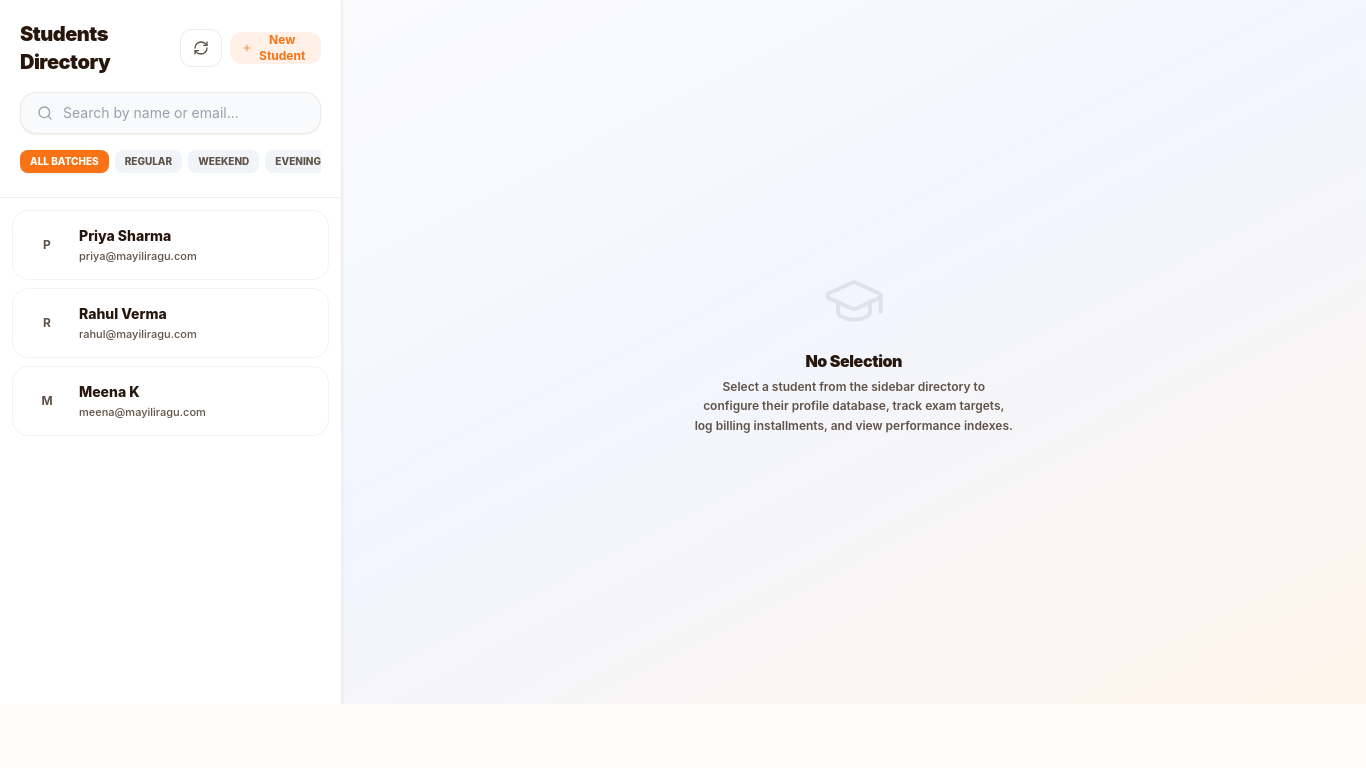
Test case: StudentManagementPage › filters students by batch type
The width and height of the screenshot is (1366, 768).
Expected: the text "Priya Sharma" is shown, x1=79 y1=227 x2=171 y2=244
Expected: the text "Rahul Verma" is shown, x1=79 y1=305 x2=167 y2=322
Filter by Weekend
Click the button "Weekend".
click(224, 162)  # box x1=188 y1=150 x2=259 y2=173
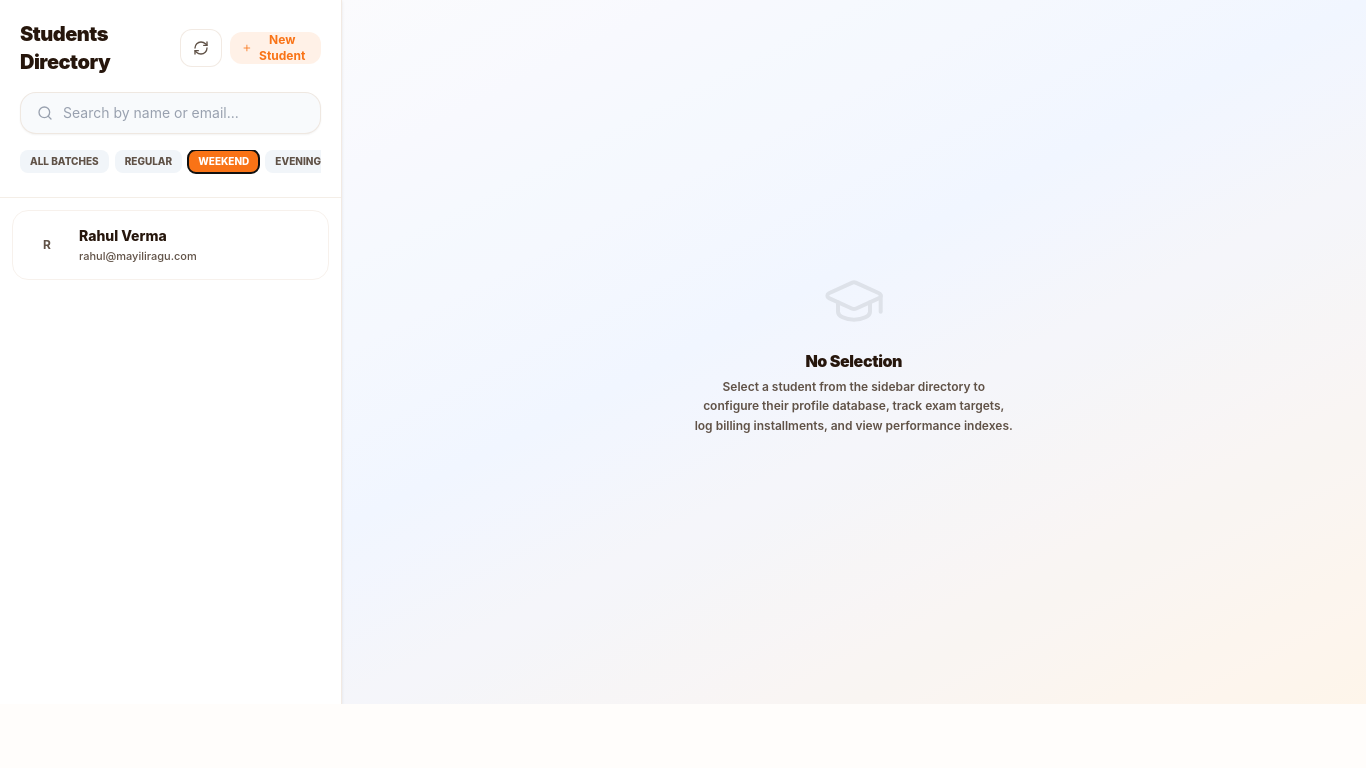
Expected: the text "Rahul Verma" is shown, x1=79 y1=227 x2=167 y2=244
Expected: the text "Priya Sharma" is gone
Expected: the text "Meena K" is gone
Filter by Evening
Click the button "Evening".
click(298, 162)  # box x1=265 y1=150 x2=331 y2=173
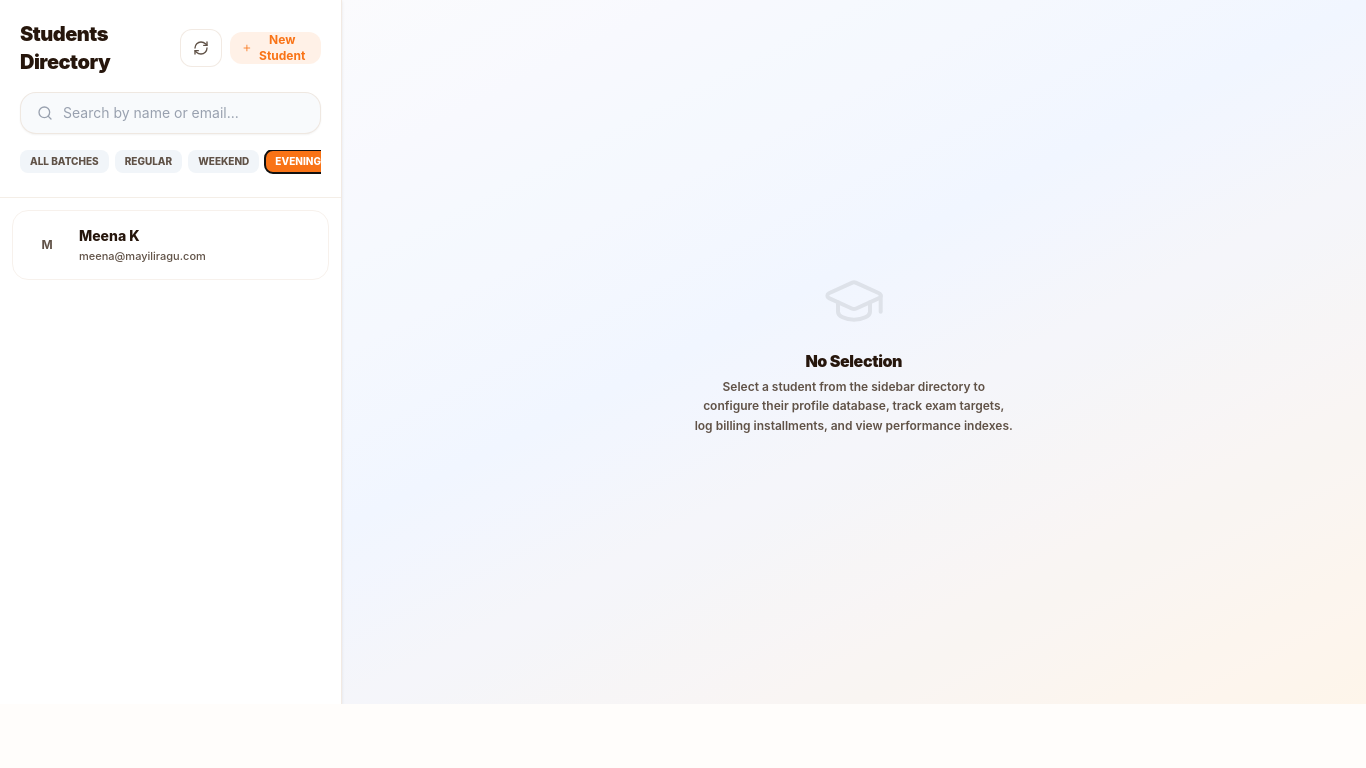
Expected: the text "Priya Sharma" is not shown
Expected: the text "Rahul Verma" is gone
Expected: the text "Meena K" is shown, x1=79 y1=227 x2=140 y2=244
Filter by Regular
Click the button "Regular".
click(148, 162)  # box x1=115 y1=150 x2=182 y2=173
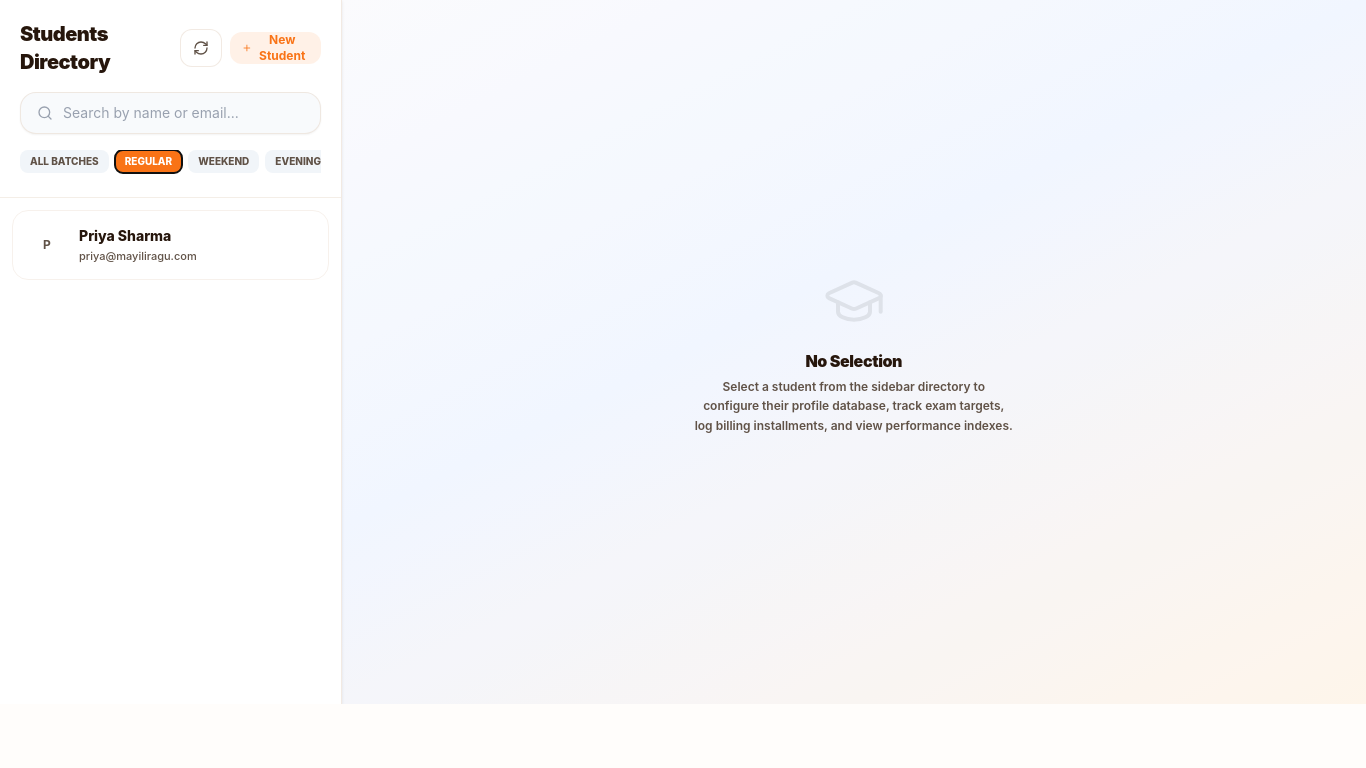
Expected: the text "Rahul Verma" is not shown
Expected: the text "Priya Sharma" is shown, x1=79 y1=227 x2=171 y2=244
Expected: the text "Meena K" is gone
Reset to All Batches
Click the button "All Batches".
click(64, 162)  # box x1=20 y1=150 x2=109 y2=173
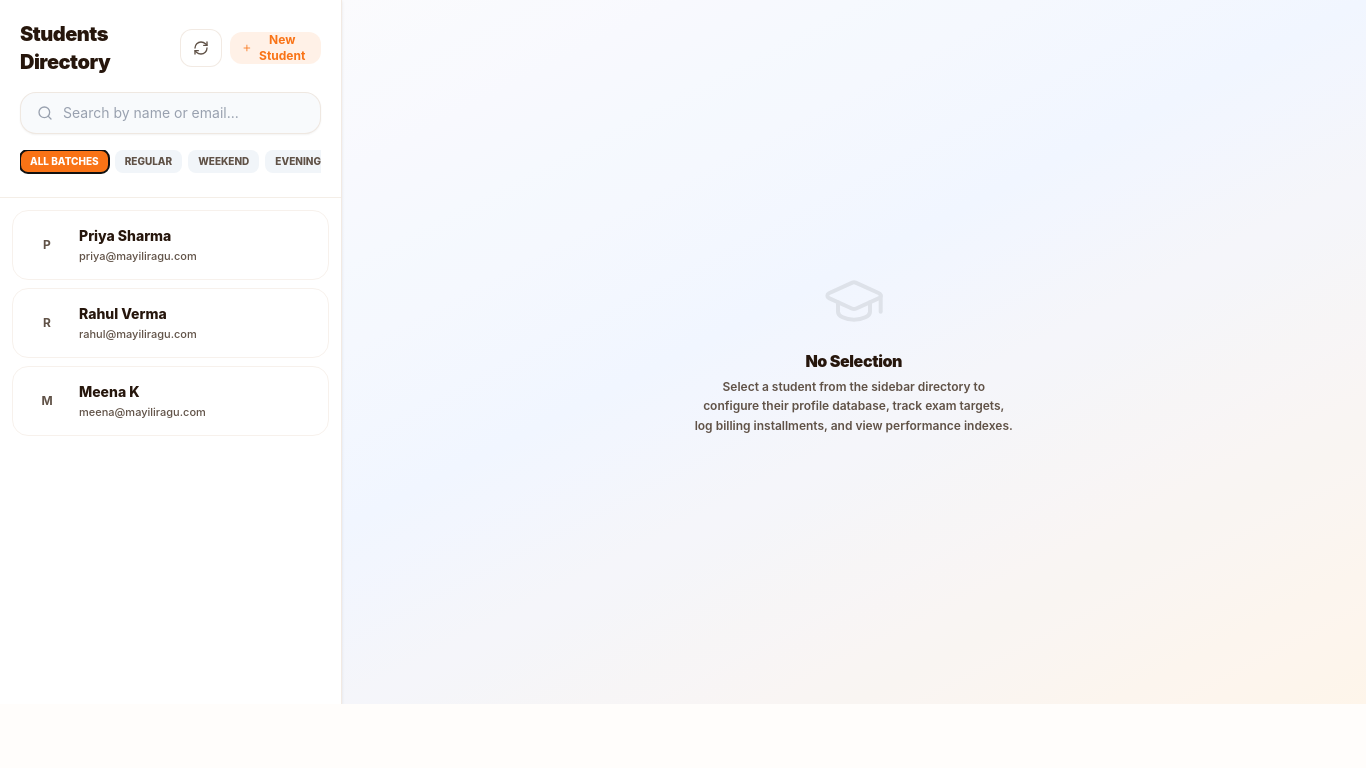
Expected: the text "Priya Sharma" is shown, x1=79 y1=227 x2=171 y2=244
Expected: the text "Rahul Verma" is shown, x1=79 y1=305 x2=167 y2=322
Expected: the text "Meena K" is shown, x1=79 y1=383 x2=140 y2=400
